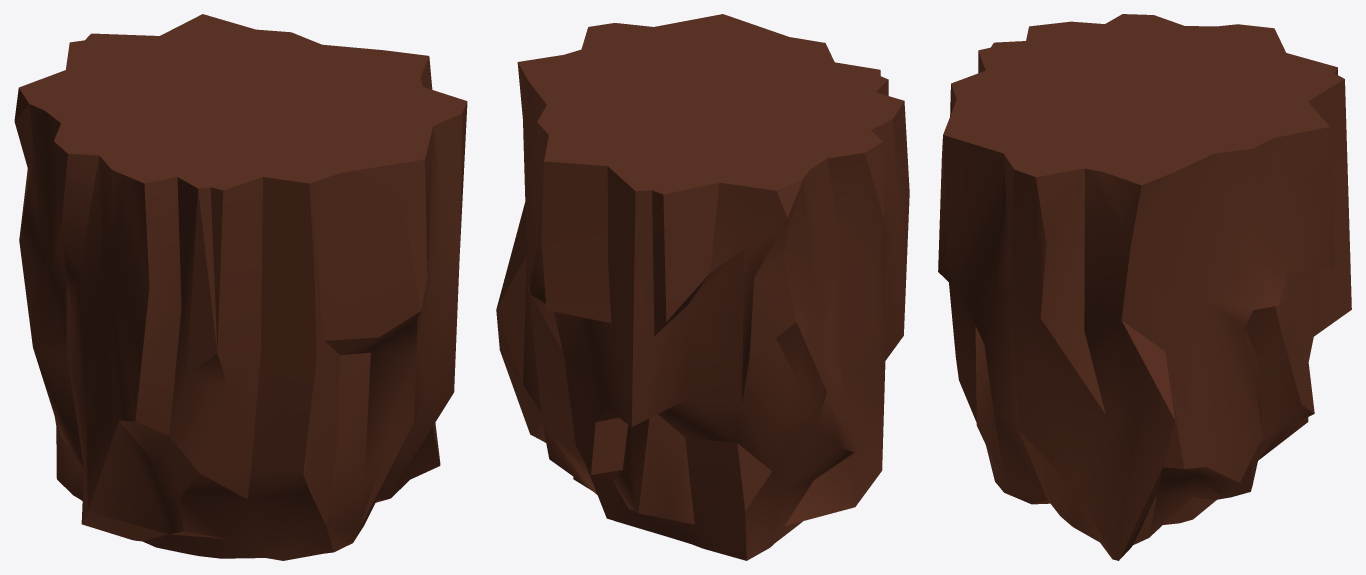
The model's file is Hill_5_2.fbx.
3 renders of one model, left to right at view 1: azimuth 30°, elevation 25°; view 2: azimuth 150°, elevation 25°; view 3: azimuth 270°, elevation 25°, orthographic. The views are drawn at different scales.
Parts seen in each view (by area): view 1: Rock_5_2; view 2: Rock_5_2; view 3: Rock_5_2.
Boxes of the visible parts, <box> form: Rock_5_2: <box>14,14,467,560</box>; Rock_5_2: <box>496,14,909,560</box>; Rock_5_2: <box>938,14,1351,560</box>.
Size of the model in its own units: 1513 by 1500 by 1496.
